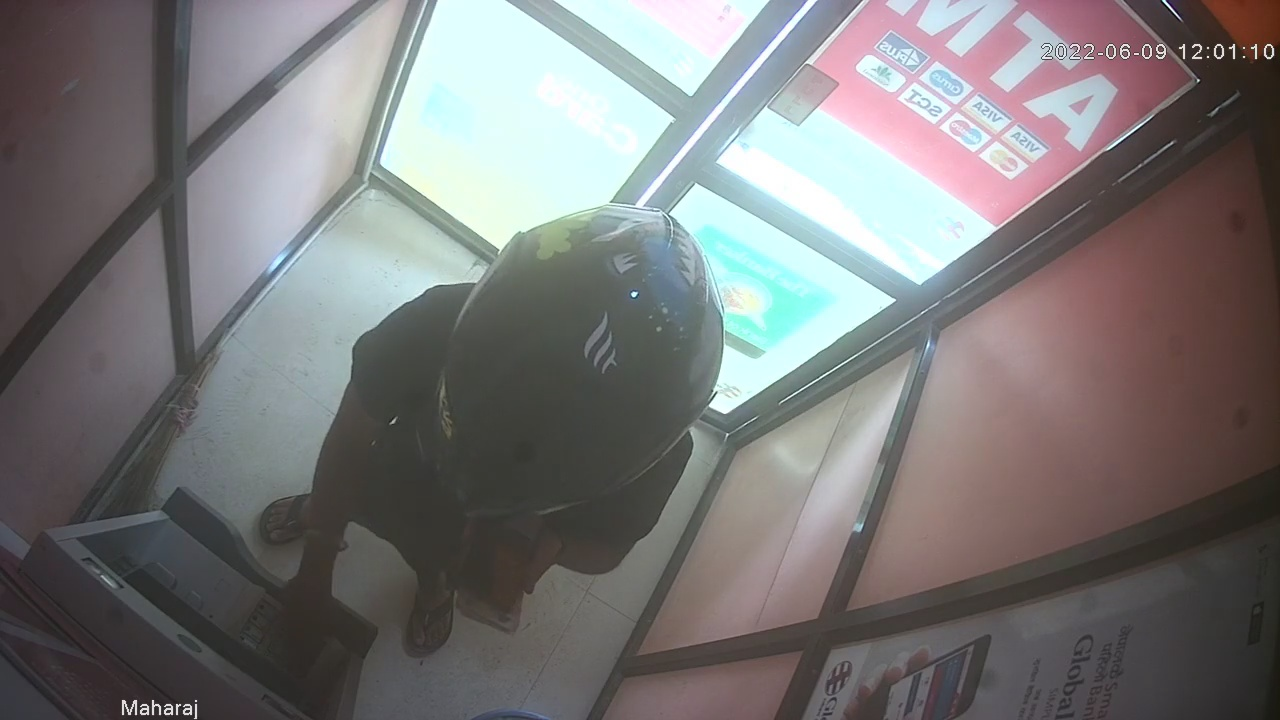helmet: (433, 202, 722, 522)
person: (257, 201, 725, 675)
